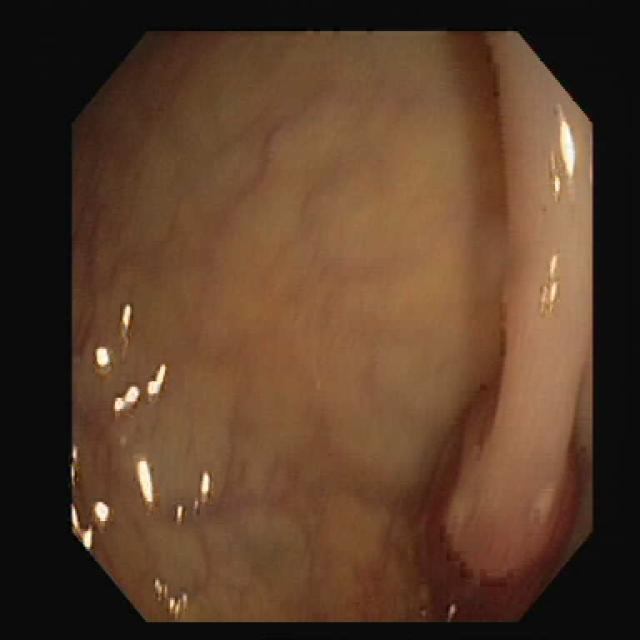tumor: (422, 409, 590, 618)
